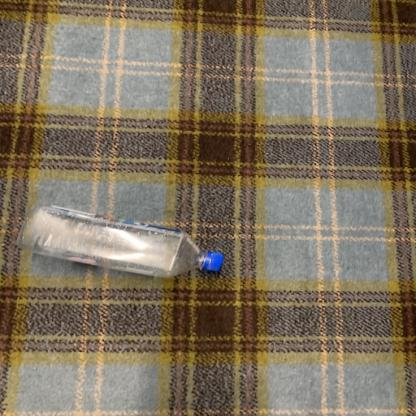trash: (16, 202, 228, 286)
